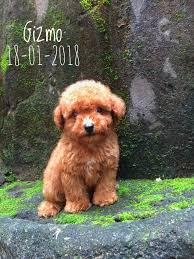Poodle: (23, 74, 172, 221)
